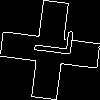L: (25, 25, 74, 58)
